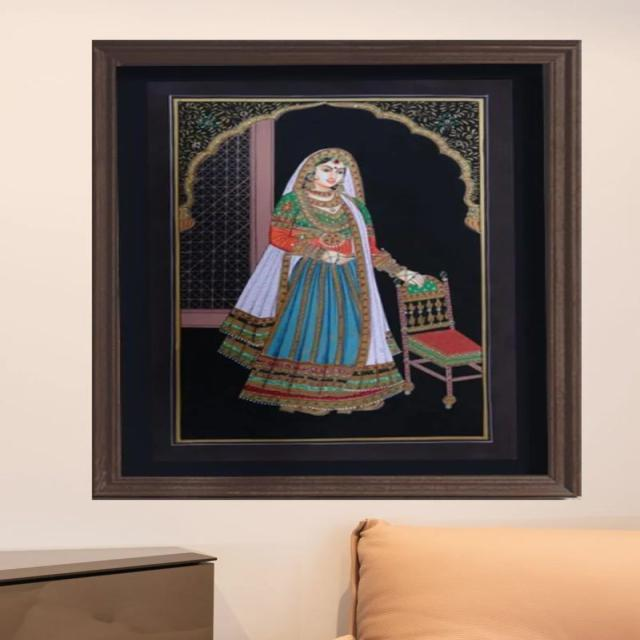painting: (91, 37, 583, 498)
